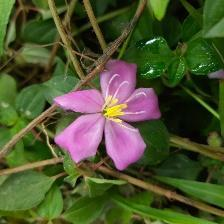malabar melastome: (53, 56, 163, 172)
